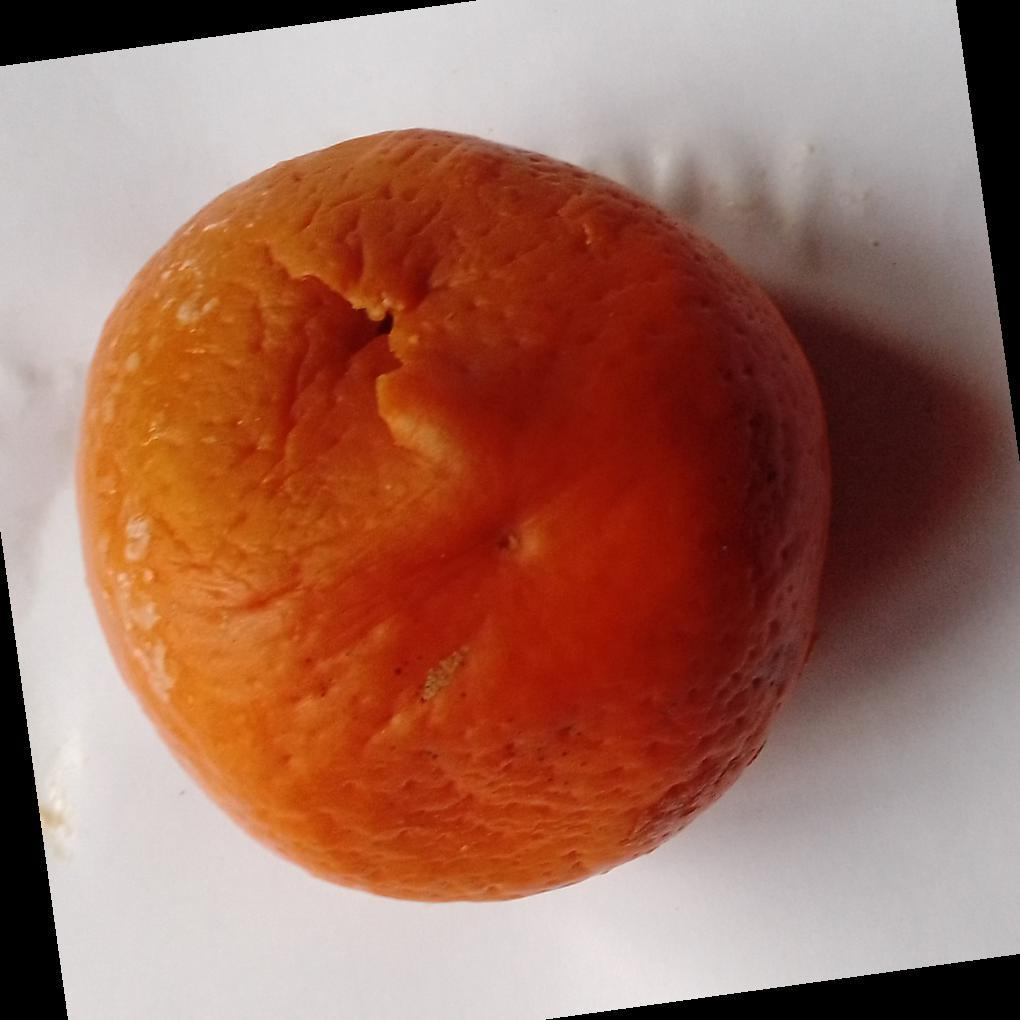FreshOrange: (73, 130, 834, 908)
